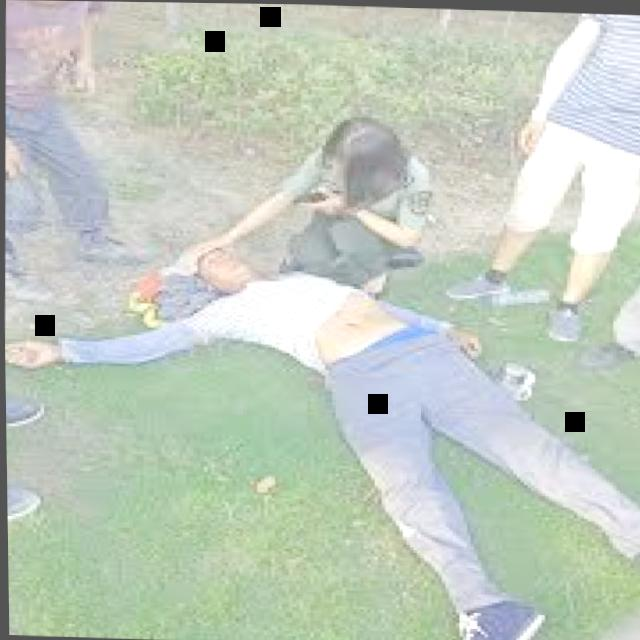Fall-Detected: (2, 211, 640, 640)
